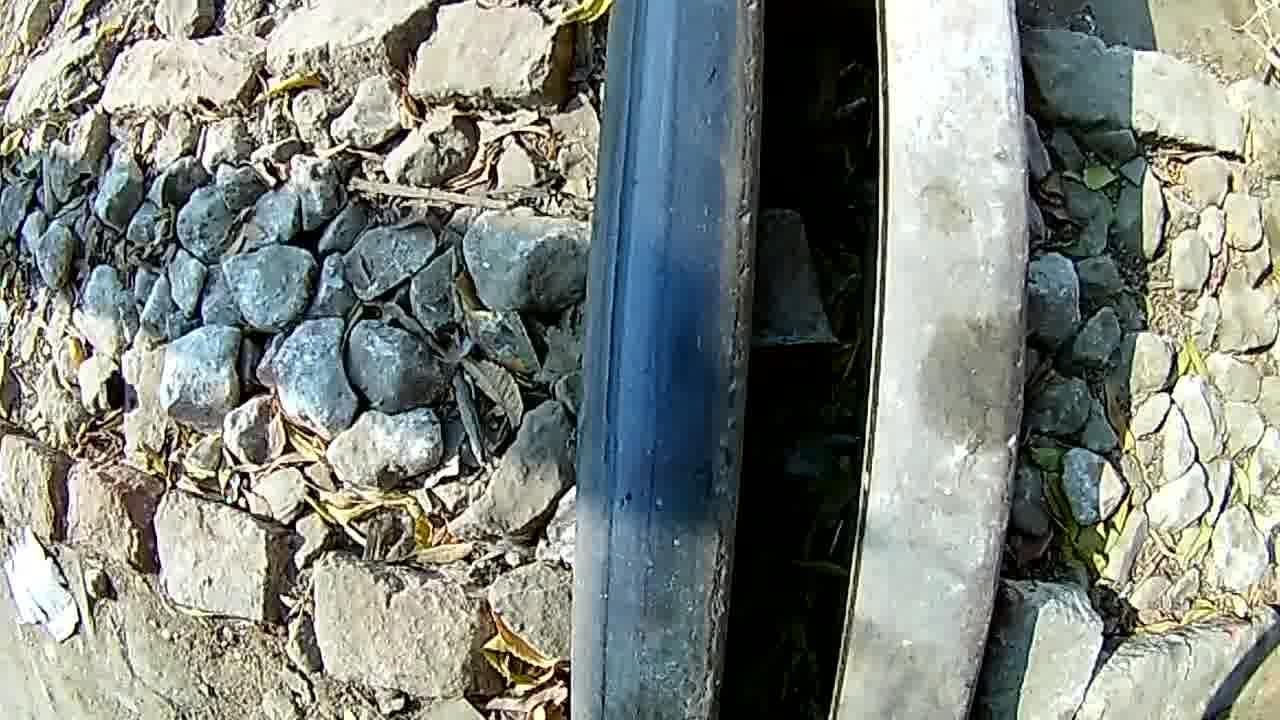clip_missing: (565, 2, 773, 720)
